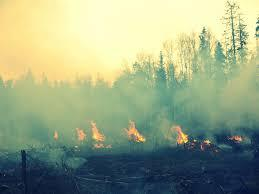fire: (74, 119, 110, 149), (173, 125, 211, 147), (121, 118, 145, 144), (232, 132, 244, 145), (53, 129, 59, 139)
yanwu: (0, 0, 258, 127)
